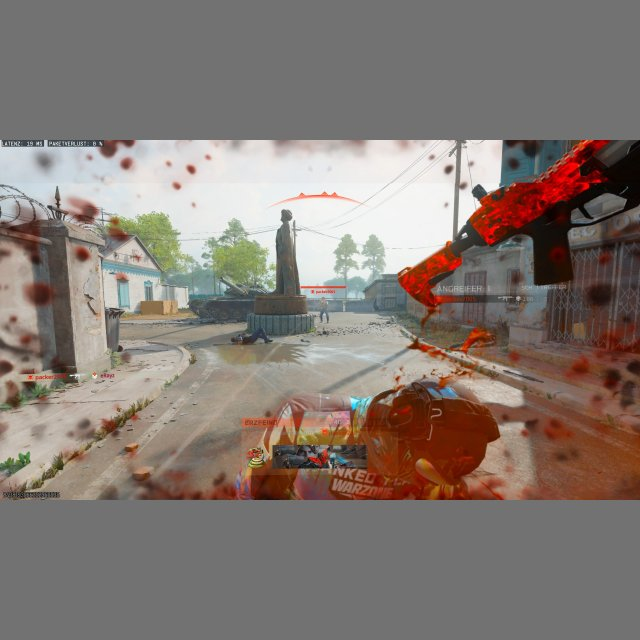player: (319, 297, 329, 323)
